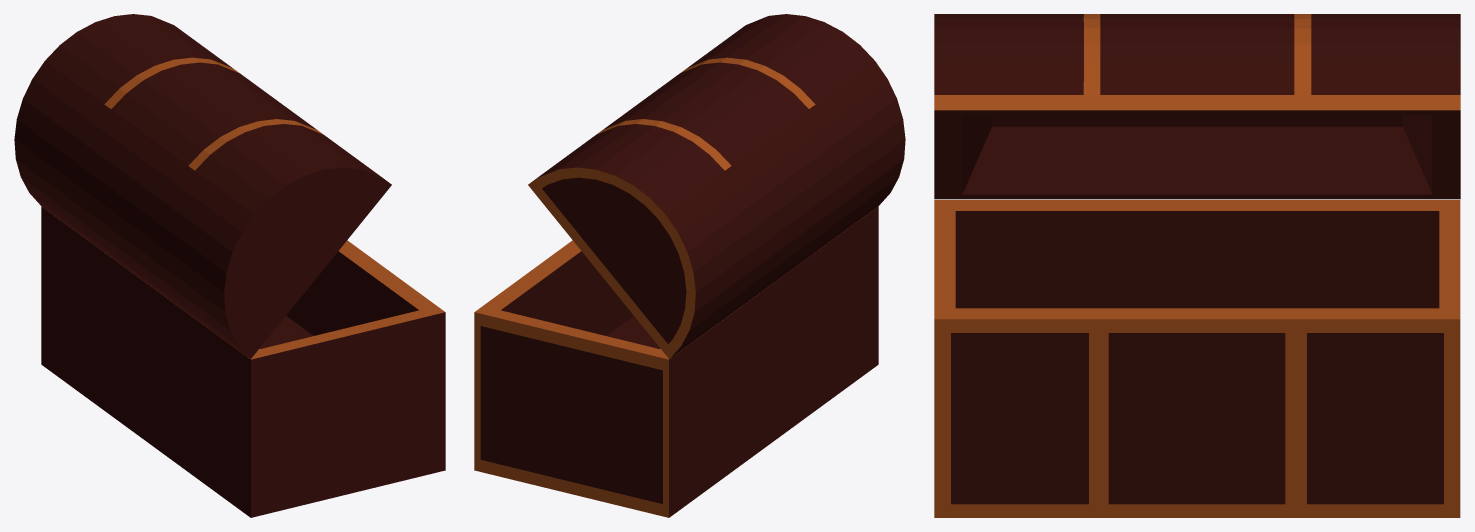
Rendered from arkku.fbx.
3 renders of one model, left to right at view 1: azimuth 30°, elevation 25°; view 2: azimuth 150°, elevation 25°; view 3: azimuth 270°, elevation 25°, orthographic. The views are drawn at different scales.
Visible parts, largest first — view 1: Cylinder; view 2: Cylinder; view 3: Cylinder.
Boxes of the visible parts, x1,y1,x2,y2 form: Cylinder: (14,14,445,517); Cylinder: (474,14,905,517); Cylinder: (934,14,1460,517).
Size of the model in its own units: 228 by 325 by 373.
